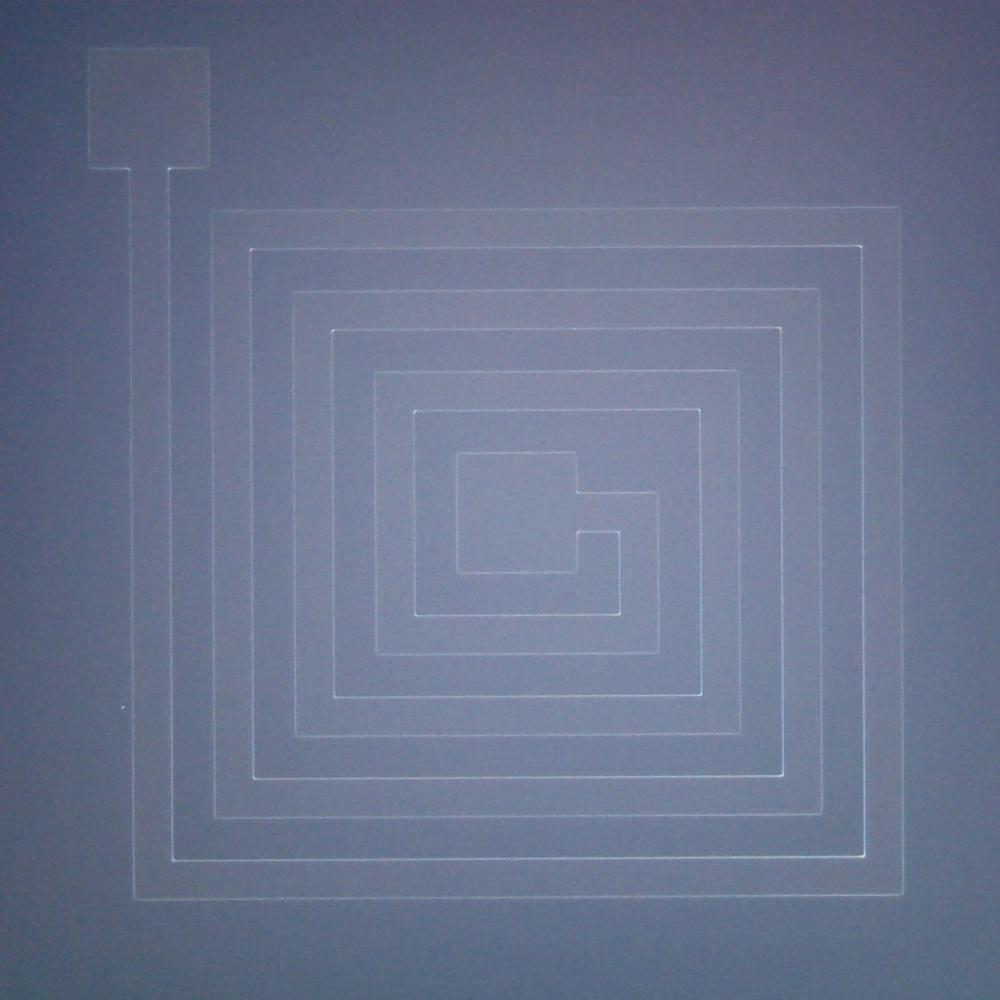dot: (122, 706, 125, 709)
